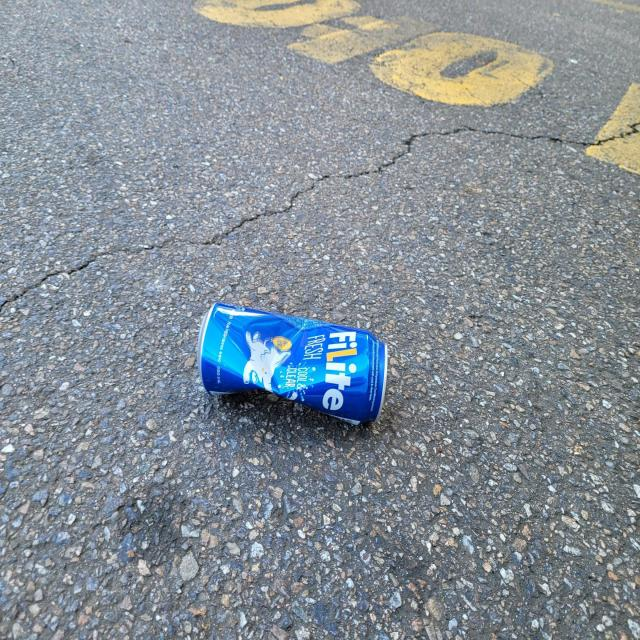can: (197, 303, 388, 424)
